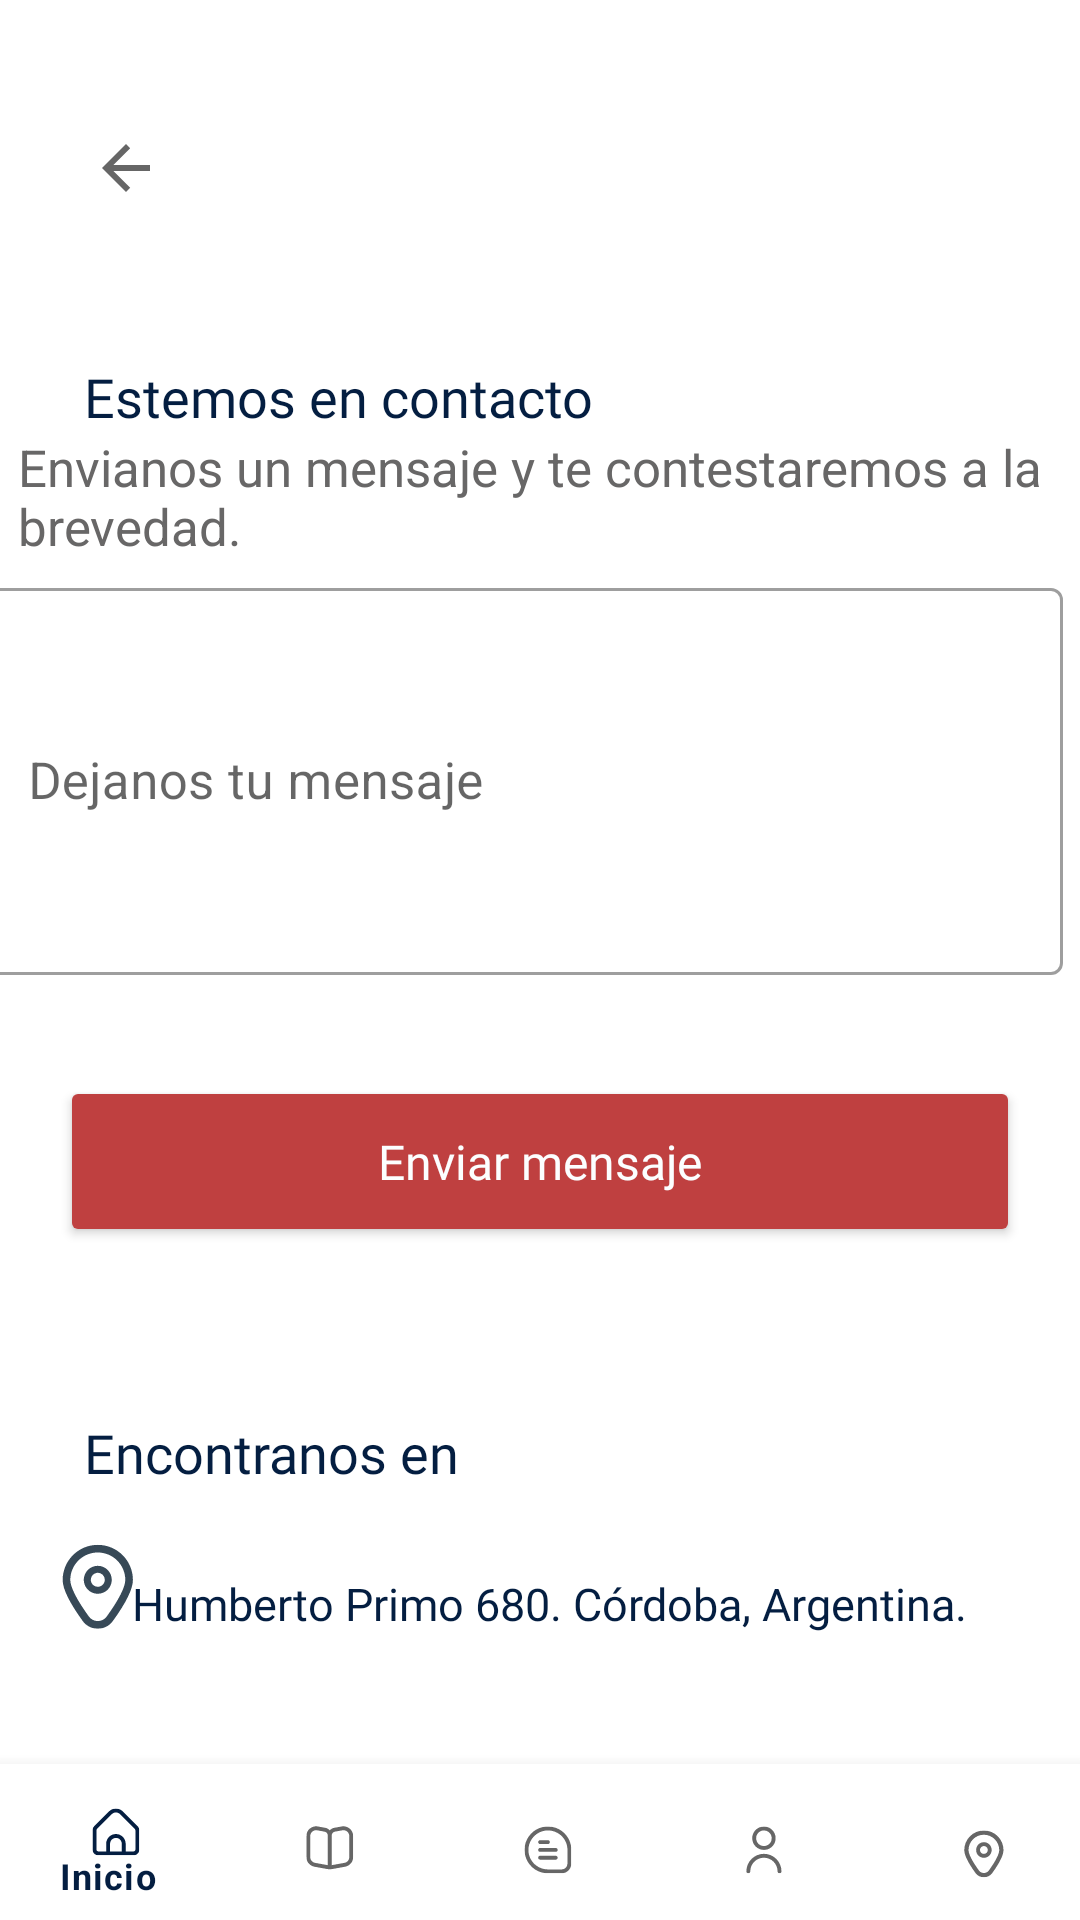

Where icons sit on this 1080 × 1920 app screen, as (x1, y1, x2, y2):
Volver hacia atrás: (102, 144, 150, 192)
